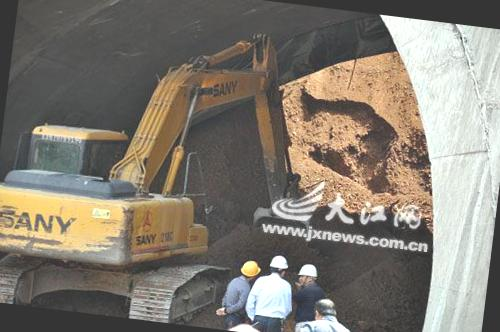no_helmet: (310, 295, 342, 324)
person: (249, 253, 297, 332), (219, 254, 262, 332), (287, 262, 332, 332), (288, 291, 361, 332)
